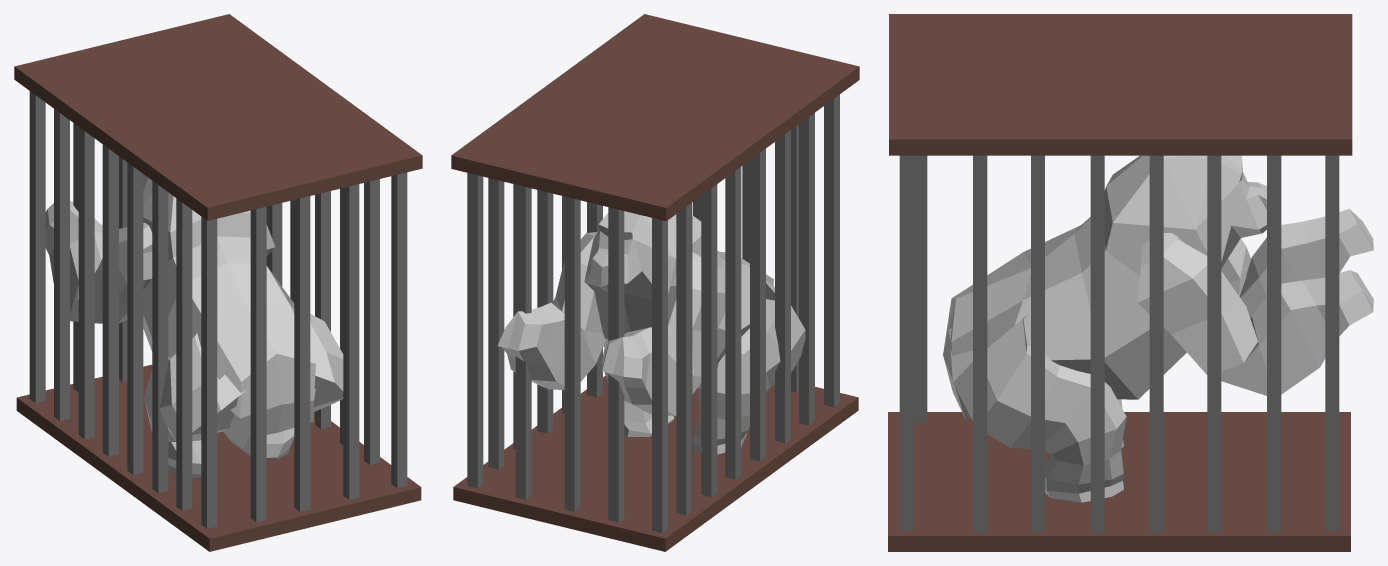
The model's file is Cage.fbx.
3 renders of one model, left to right at view 1: azimuth 30°, elevation 25°; view 2: azimuth 150°, elevation 25°; view 3: azimuth 270°, elevation 25°, orthographic. The views are drawn at different scales.
Visible parts, largest first — view 1: Gorilla; view 2: Gorilla; view 3: Gorilla.
Part boxes in pixels (bbox=[...]): Gorilla: bbox=[14, 14, 422, 551]; Gorilla: bbox=[451, 14, 859, 551]; Gorilla: bbox=[888, 14, 1373, 551].
Size of the model in its own units: 99.56 by 152 by 162.
